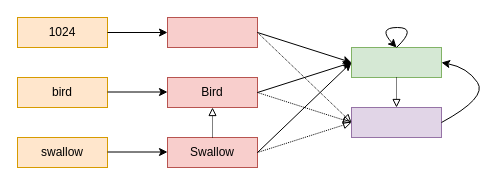
Image size: 497x185. Some labels were removed from this diagram. Here are the shapes that lost their labels. From the top down, the centre of each, then its label:
At point (212, 32): "int".
At point (396, 62): "type".
At point (396, 122): "object".
